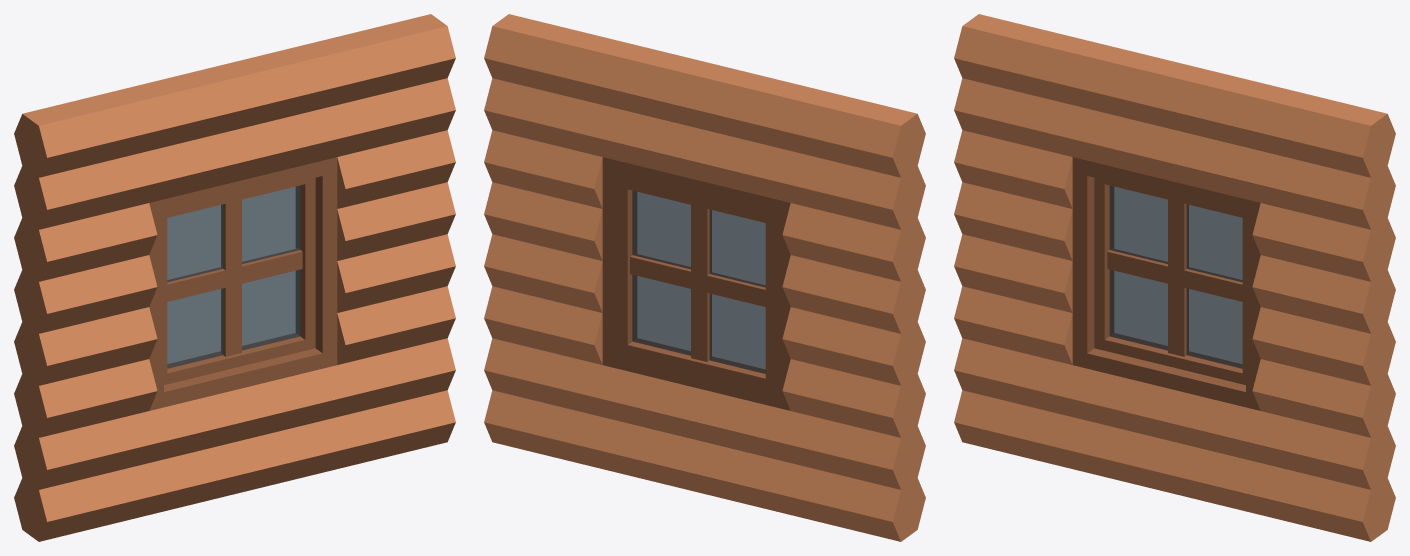
The model's file is cabinWindow.fbx.
The picture shows the model from 3 angles, left to right: view 1: azimuth 30°, elevation 25°; view 2: azimuth 150°, elevation 25°; view 3: azimuth 330°, elevation 25°; orthographic projection.
Visible parts, largest first — view 1: cabinWindow, frame; view 2: cabinWindow, frame; view 3: cabinWindow, frame.
Part boxes in pixels (x1,y1,x2,y2): cabinWindow: (14,14,455,541); frame: (149,157,337,410); cabinWindow: (484,14,925,541); frame: (602,157,790,410); cabinWindow: (954,14,1395,541); frame: (1072,157,1260,410).
Size of the model in its own units: 10 by 9.73 by 1.4.
